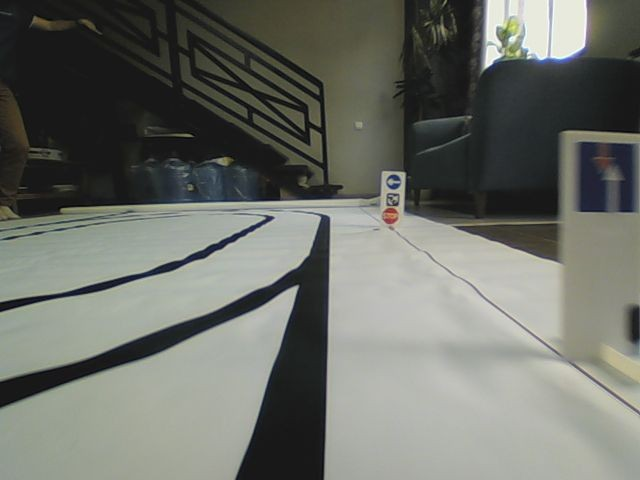Stop: (382, 207, 399, 224)
priority_movement: (575, 139, 640, 215)
